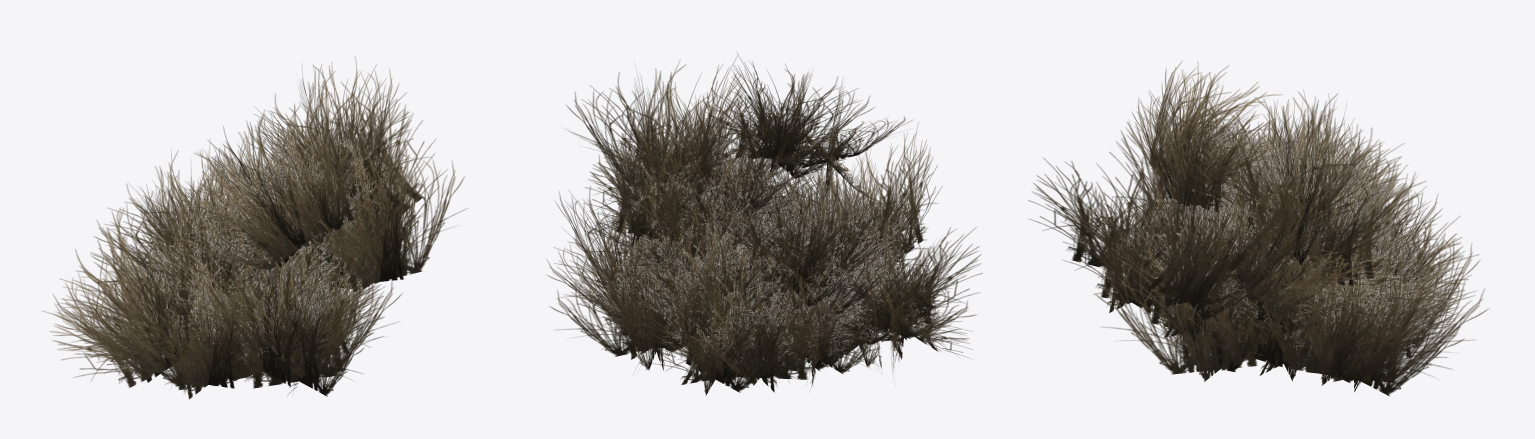
Rendered from Tufts_Dry.glb.
The picture shows the model from 3 angles, left to right: view 1: azimuth 30°, elevation 25°; view 2: azimuth 150°, elevation 25°; view 3: azimuth 270°, elevation 25°; orthographic projection. The views are drawn at different scales.
Parts seen in each view (by area): view 1: Tuft_5, Tuft_6, Tuft_3, Tuft_7, Tuft_4, Tuft_1, Tuft_0, Tuft_2; view 2: Tuft_3, Tuft_5, Tuft_4, Tuft_7, Tuft_1, Tuft_0, Tuft_6, Tuft_2; view 3: Tuft_3, Tuft_6, Tuft_5, Tuft_7, Tuft_0, Tuft_1, Tuft_2, Tuft_4.
Part boxes in pixels (x1=…): Tuft_5: x1=53, y1=138, x2=467, y2=364; Tuft_6: x1=42, y1=84, x2=435, y2=387; Tuft_3: x1=90, y1=57, x2=413, y2=366; Tuft_7: x1=96, y1=171, x2=421, y2=399; Tuft_4: x1=91, y1=105, x2=384, y2=356; Tuft_1: x1=116, y1=202, x2=384, y2=380; Tuft_0: x1=142, y1=157, x2=378, y2=386; Tuft_2: x1=136, y1=204, x2=402, y2=396; Tuft_3: x1=566, y1=53, x2=904, y2=385; Tuft_5: x1=597, y1=80, x2=976, y2=368; Tuft_4: x1=583, y1=122, x2=919, y2=361; Tuft_7: x1=547, y1=186, x2=982, y2=370; Tuft_1: x1=576, y1=147, x2=921, y2=392; Tuft_0: x1=632, y1=122, x2=942, y2=370; Tuft_6: x1=568, y1=79, x2=972, y2=371; Tuft_2: x1=648, y1=183, x2=887, y2=395; Tuft_3: x1=1126, y1=72, x2=1420, y2=265; Tuft_6: x1=1148, y1=61, x2=1410, y2=347; Tuft_5: x1=1102, y1=101, x2=1479, y2=334; Tuft_7: x1=1131, y1=176, x2=1489, y2=396; Tuft_0: x1=1028, y1=146, x2=1463, y2=344; Tuft_1: x1=1063, y1=176, x2=1459, y2=382; Tuft_2: x1=1094, y1=191, x2=1480, y2=381; Tuft_4: x1=1176, y1=97, x2=1418, y2=313.
Size of the model in its own units: 7.14 by 4.88 by 6.55.
1 material, 1 textured.
